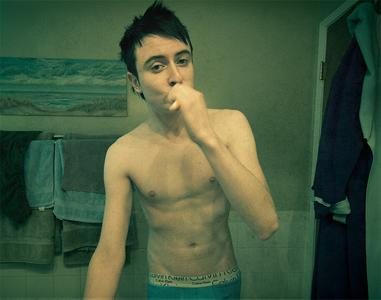person: (75, 5, 278, 300)
